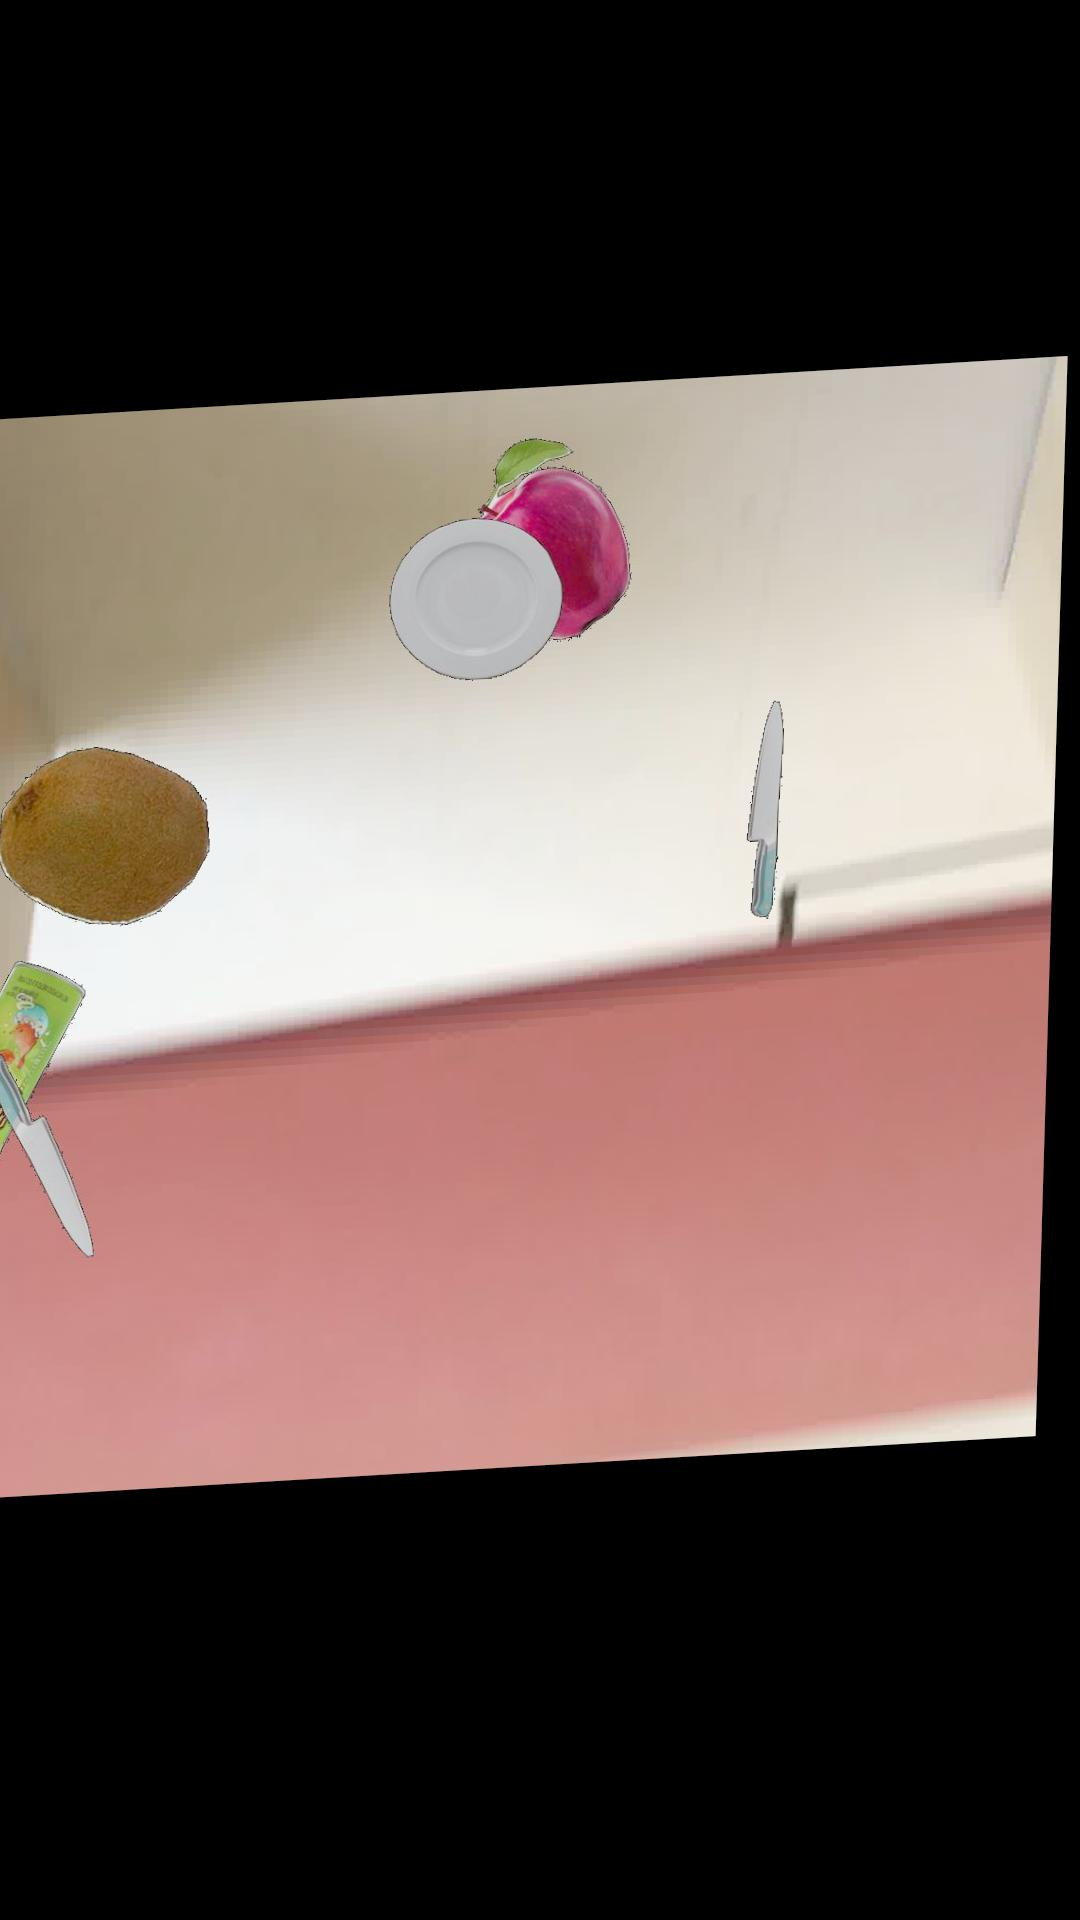apple: (481, 444, 636, 645)
kiwi: (3, 746, 215, 926)
knife: (0, 1052, 102, 1258), (753, 709, 789, 926)
plate: (394, 522, 568, 686)
pringles: (0, 960, 92, 1104)
